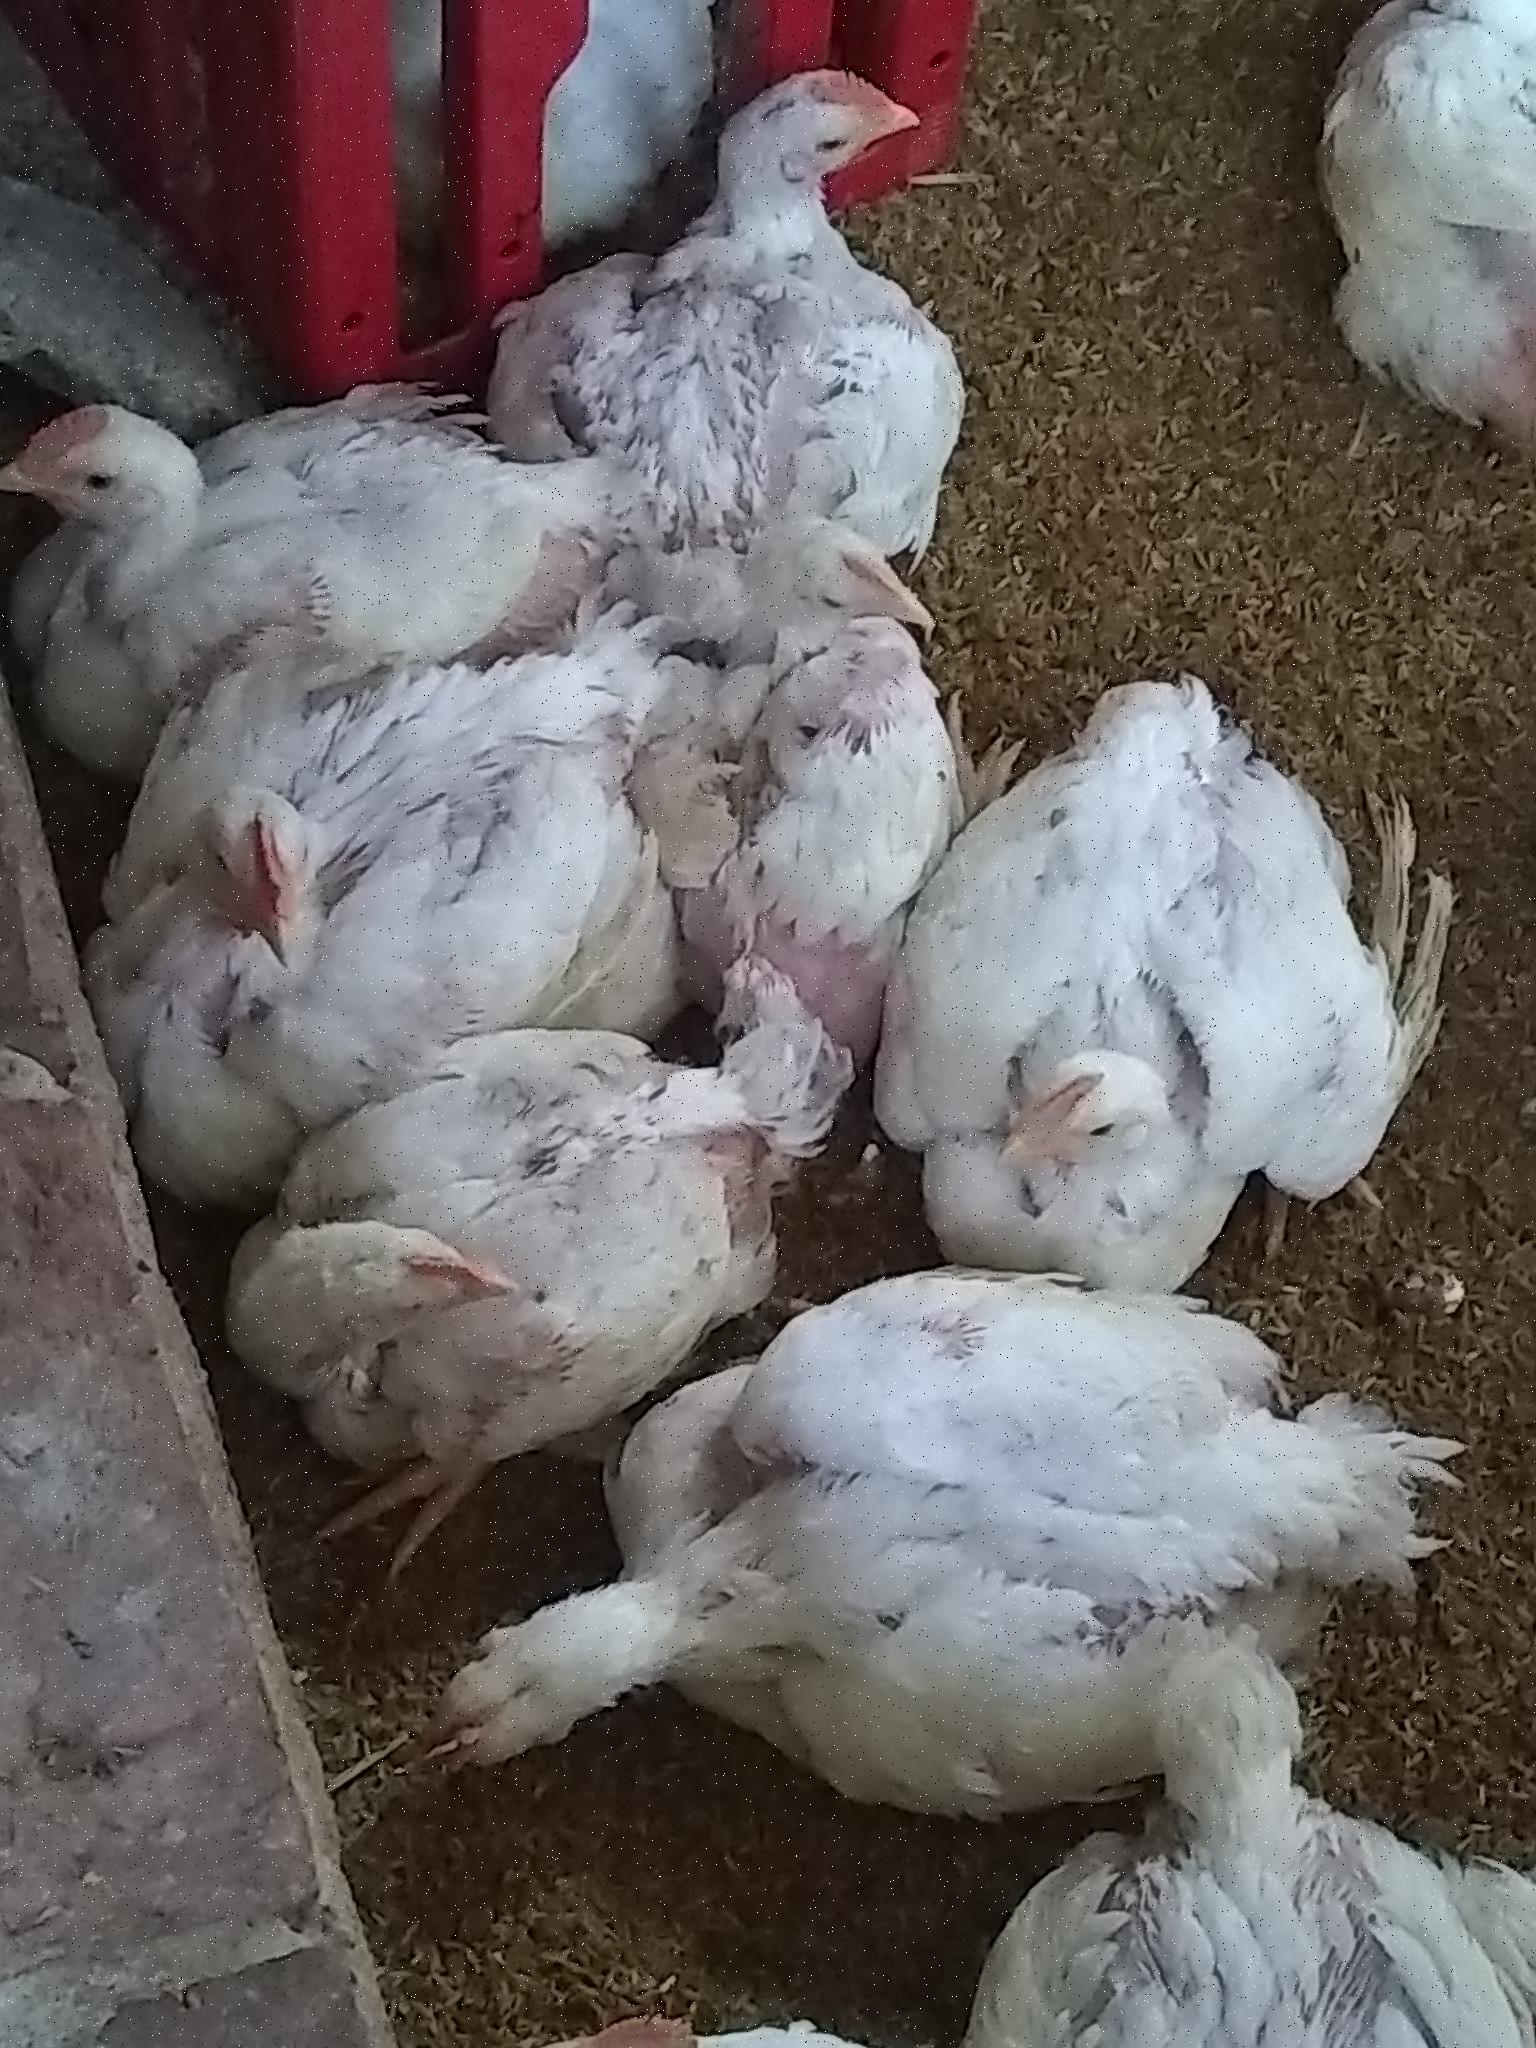Pollos: (355, 1263, 1405, 1780), (954, 734, 1405, 1303), (65, 648, 665, 1074), (234, 1034, 768, 1505), (976, 1667, 1536, 2048), (2, 377, 553, 647), (558, 65, 929, 463), (1291, 2, 1536, 435), (712, 505, 979, 719)
